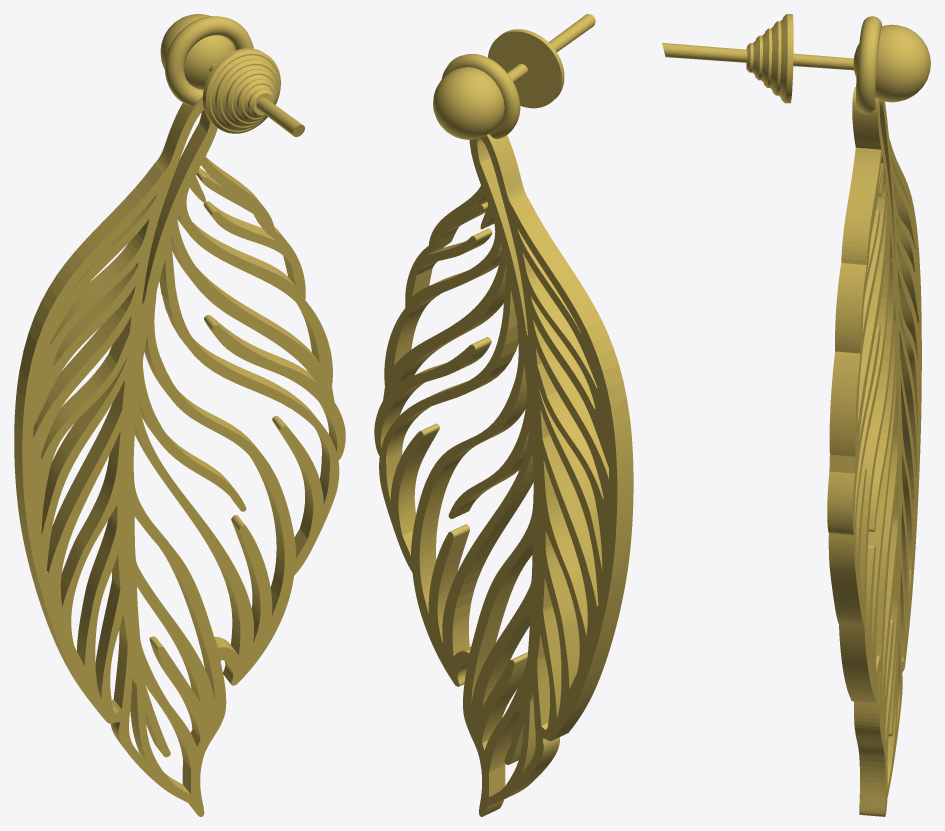
3 views of the same model, side by side, from view 1: azimuth 30°, elevation 25°; view 2: azimuth 150°, elevation 25°; view 3: azimuth 270°, elevation 25° (orthographic). The views are drawn at different scales.
Parts seen in each view (by area): view 1: Feathers-1, Cylinder; view 2: Feathers-1, Cylinder; view 3: Feathers-1, Cylinder.
Part boxes in pixels (x1,y1,x2,y2): Feathers-1: (14,16,345,816); Cylinder: (160,14,304,136); Feathers-1: (374,54,633,816); Cylinder: (433,14,595,139); Feathers-1: (827,16,921,816); Cylinder: (662,14,930,103).
Size of the model in its own units: 199 by 513 by 156.
